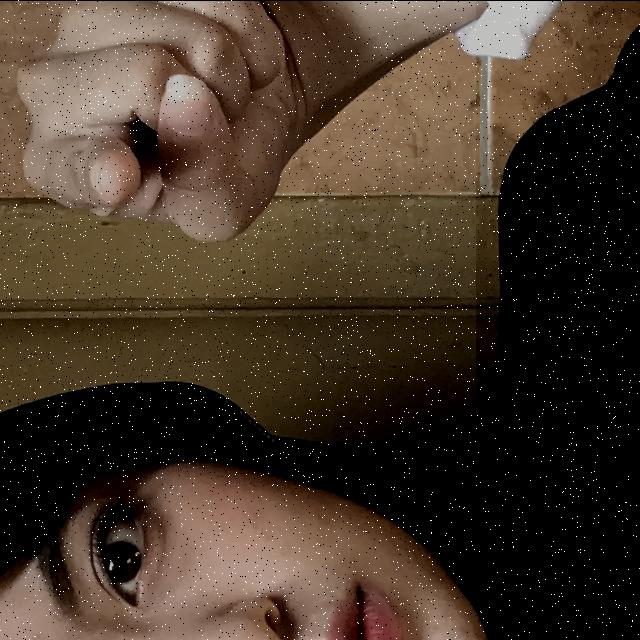kamu: (0, 0, 476, 440)
